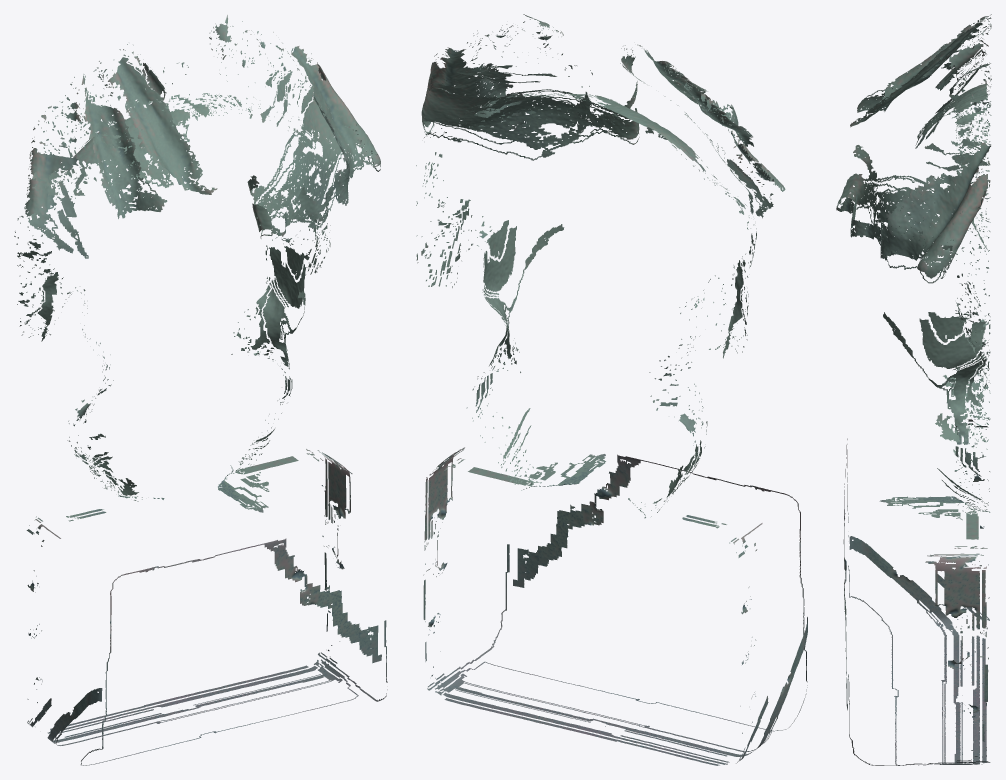
The model's file is cthulhu17_material_0.008_lev1.glb.
3 views of the same model, side by side, from view 1: azimuth 30°, elevation 25°; view 2: azimuth 150°, elevation 25°; view 3: azimuth 270°, elevation 25° (orthographic). The views are drawn at different scales.
Visible parts, largest first — view 1: cthulhu17_material_0.008_lev1; view 2: cthulhu17_material_0.008_lev1; view 3: cthulhu17_material_0.008_lev1.
Boxes of the visible parts, <box> form: cthulhu17_material_0.008_lev1: <box>14,15,387,765</box>; cthulhu17_material_0.008_lev1: <box>416,14,807,765</box>; cthulhu17_material_0.008_lev1: <box>836,14,991,765</box>.
Bounding box in the file's own units: 2.84 × 5.27 × 1.12.
